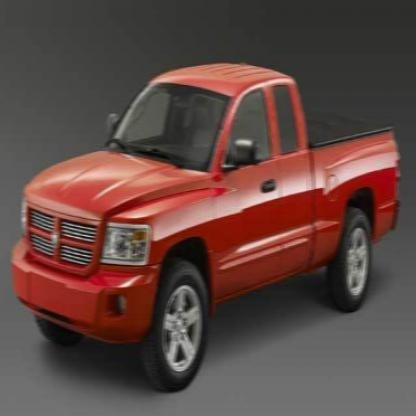Vehicle: (13, 62, 400, 392)
